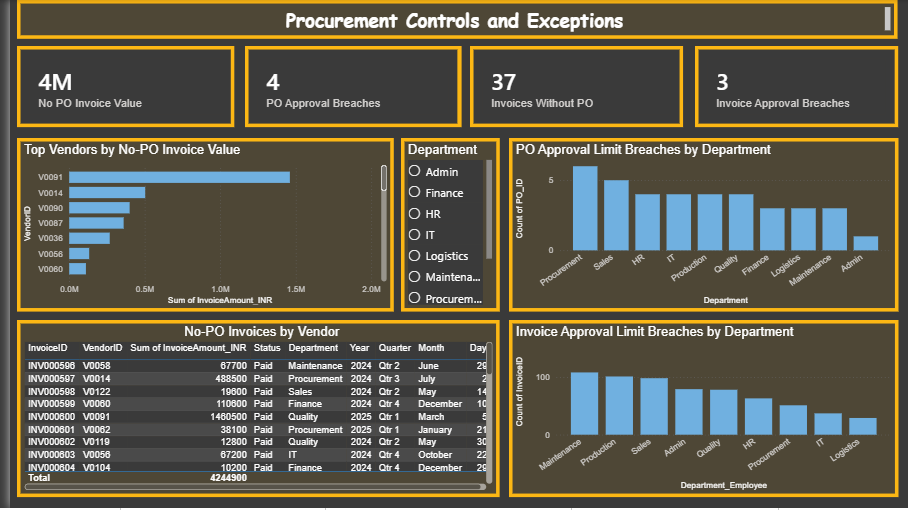

This screenshot's page, from the dashboard's own definition file:
{"tool":"powerbi","page":{"name":"Procurement Controls and Exceptions","canvas":[1280,720],"ordinal":2},"visuals":[{"type":"cardVisual","fields":{"Data":["Sum(Invoices_Without_PO.InvoiceAmount_INR)"]},"box":[10.1,64.8,308.2,115.2],"z":0},{"type":"cardVisual","fields":{"Data":["Sum(PO_Approval_Analysis.PO_Approval_Limit_Breach_Flag)"]},"box":[332.6,64.8,306.7,115.2],"z":1000},{"type":"cardVisual","fields":{"Data":["CountNonNull(Invoices_Without_PO.InvoiceID)"]},"box":[652.3,64.8,302.4,115.2],"z":2000},{"type":"cardVisual","fields":{"Data":["Sum(Invoice_Approval_Analysis.Invoice_Approval_Limit_Breach_Flag)"]},"box":[970.6,64.8,288,115.2],"z":3000},{"type":"barChart","title":"Top Vendors by No-PO Invoice Value","fields":{"Category":["Invoices_Payments_Cleaned.VendorID"],"Y":["Sum(Invoices_Without_PO.InvoiceAmount_INR)"]},"box":[10.1,195.8,534.2,246.2],"z":4000},{"type":"columnChart","title":"PO Approval Limit Breaches by Department","fields":{"Category":["Invoices_Without_PO.Department"],"Y":["CountNonNull(Invoices_Without_PO.PO_ID)"]},"box":[707,195.8,551.5,246.2],"z":5000},{"type":"columnChart","title":"Invoice Approval Limit Breaches by Department","fields":{"Y":["CountNonNull(Invoice_Approval_Analysis.InvoiceID)"],"Category":["Invoice_Approval_Analysis.Department_Employee"]},"box":[707,453.6,551.5,250.6],"z":6000},{"type":"listSlicer","fields":{"Values":["Invoices_Payments_Cleaned.Department"]},"box":[554.4,195.8,139.7,246.2],"z":7000},{"type":"tableEx","title":"No-PO Invoices by Vendor","fields":{"Values":["Invoices_Payments_Cleaned.InvoiceID","Invoices_Payments_Cleaned.VendorID","Sum(Invoices_Payments_Cleaned.InvoiceAmount_INR)","Invoices_Payments_Cleaned.Status","Invoices_Payments_Cleaned.Department","Invoices_Payments_Cleaned.InvoiceDate.Variation.Date Hierarchy.Year","Invoices_Payments_Cleaned.InvoiceDate.Variation.Date Hierarchy.Quarter","Invoices_Payments_Cleaned.InvoiceDate.Variation.Date Hierarchy.Month","Invoices_Payments_Cleaned.InvoiceDate.Variation.Date Hierarchy.Day"]},"box":[10.1,453.6,684,250.6],"z":8000},{"type":"textbox","box":[10.1,0,1248.5,54.7],"z":9000}]}

Visuals, with their boxes in screenshot pixels (x1, y1, x2, y2), scaled from the page's 1280x720 canvas onto the 908x510 screenshot:
cardVisual - Sum(Invoices_Without_PO.InvoiceAmount_INR): bbox=[7, 46, 226, 128]
cardVisual - Sum(PO_Approval_Analysis.PO_Approval_Limit_Breach_Flag): bbox=[236, 46, 454, 128]
cardVisual - CountNonNull(Invoices_Without_PO.InvoiceID): bbox=[463, 46, 677, 128]
cardVisual - Sum(Invoice_Approval_Analysis.Invoice_Approval_Limit_Breach_Flag): bbox=[689, 46, 893, 128]
"Top Vendors by No-PO Invoice Value" barChart: bbox=[7, 139, 386, 313]
"PO Approval Limit Breaches by Department" columnChart: bbox=[502, 139, 893, 313]
"Invoice Approval Limit Breaches by Department" columnChart: bbox=[502, 321, 893, 499]
listSlicer - Invoices_Payments_Cleaned.Department: bbox=[393, 139, 492, 313]
"No-PO Invoices by Vendor" tableEx: bbox=[7, 321, 492, 499]
textbox: bbox=[7, 0, 893, 39]
